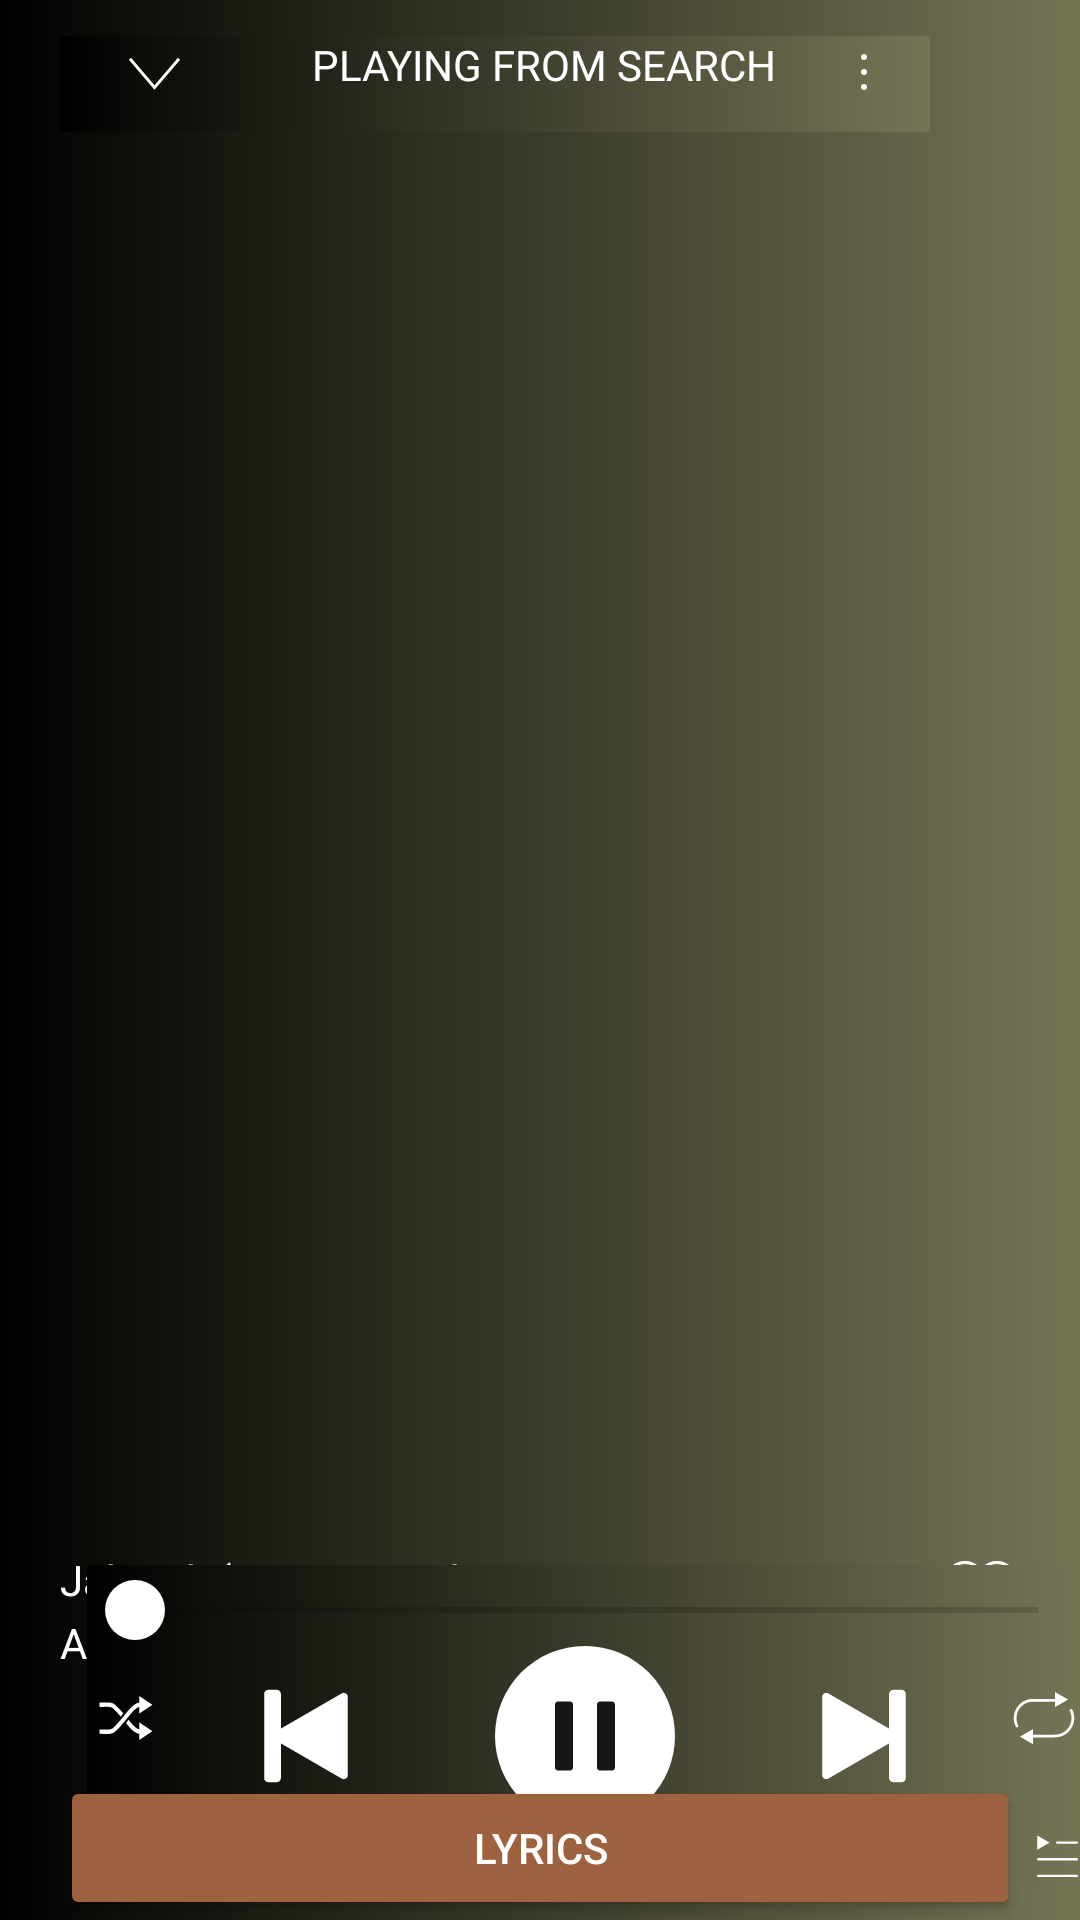

Icons on this 1080 × 1920 Android screen, each with its box as box=[x1, y1, x2, y2]:
arrow: box=[129, 58, 180, 90]
left: box=[264, 1689, 348, 1783]
more vertical: box=[861, 54, 867, 90]
pause: box=[555, 1701, 615, 1771]
repeat: box=[1013, 1692, 1075, 1744]
right: box=[822, 1689, 906, 1783]
shuffle: box=[99, 1696, 153, 1740]
